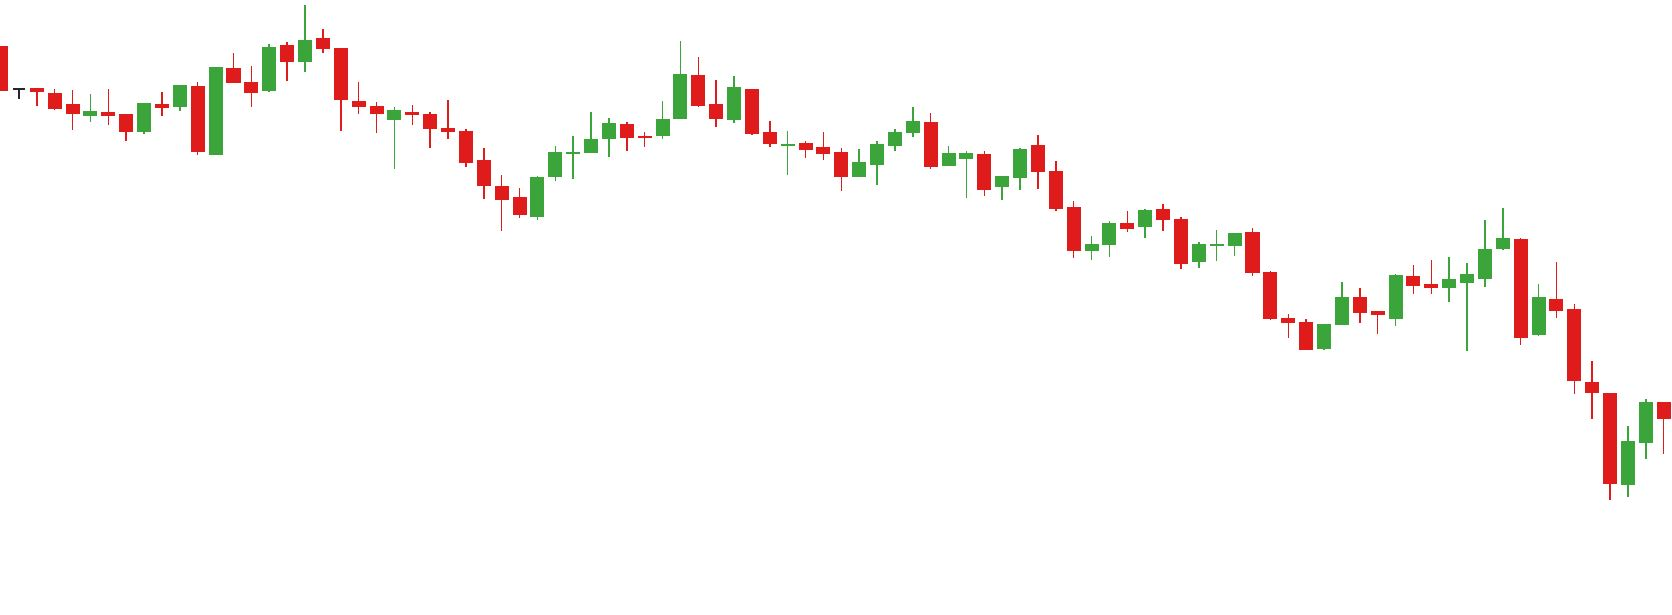buy: (830, 130, 974, 207)
